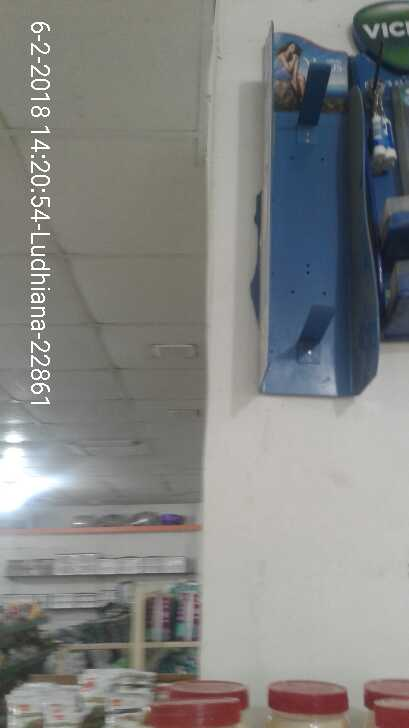reject: (188, 215, 242, 287)
